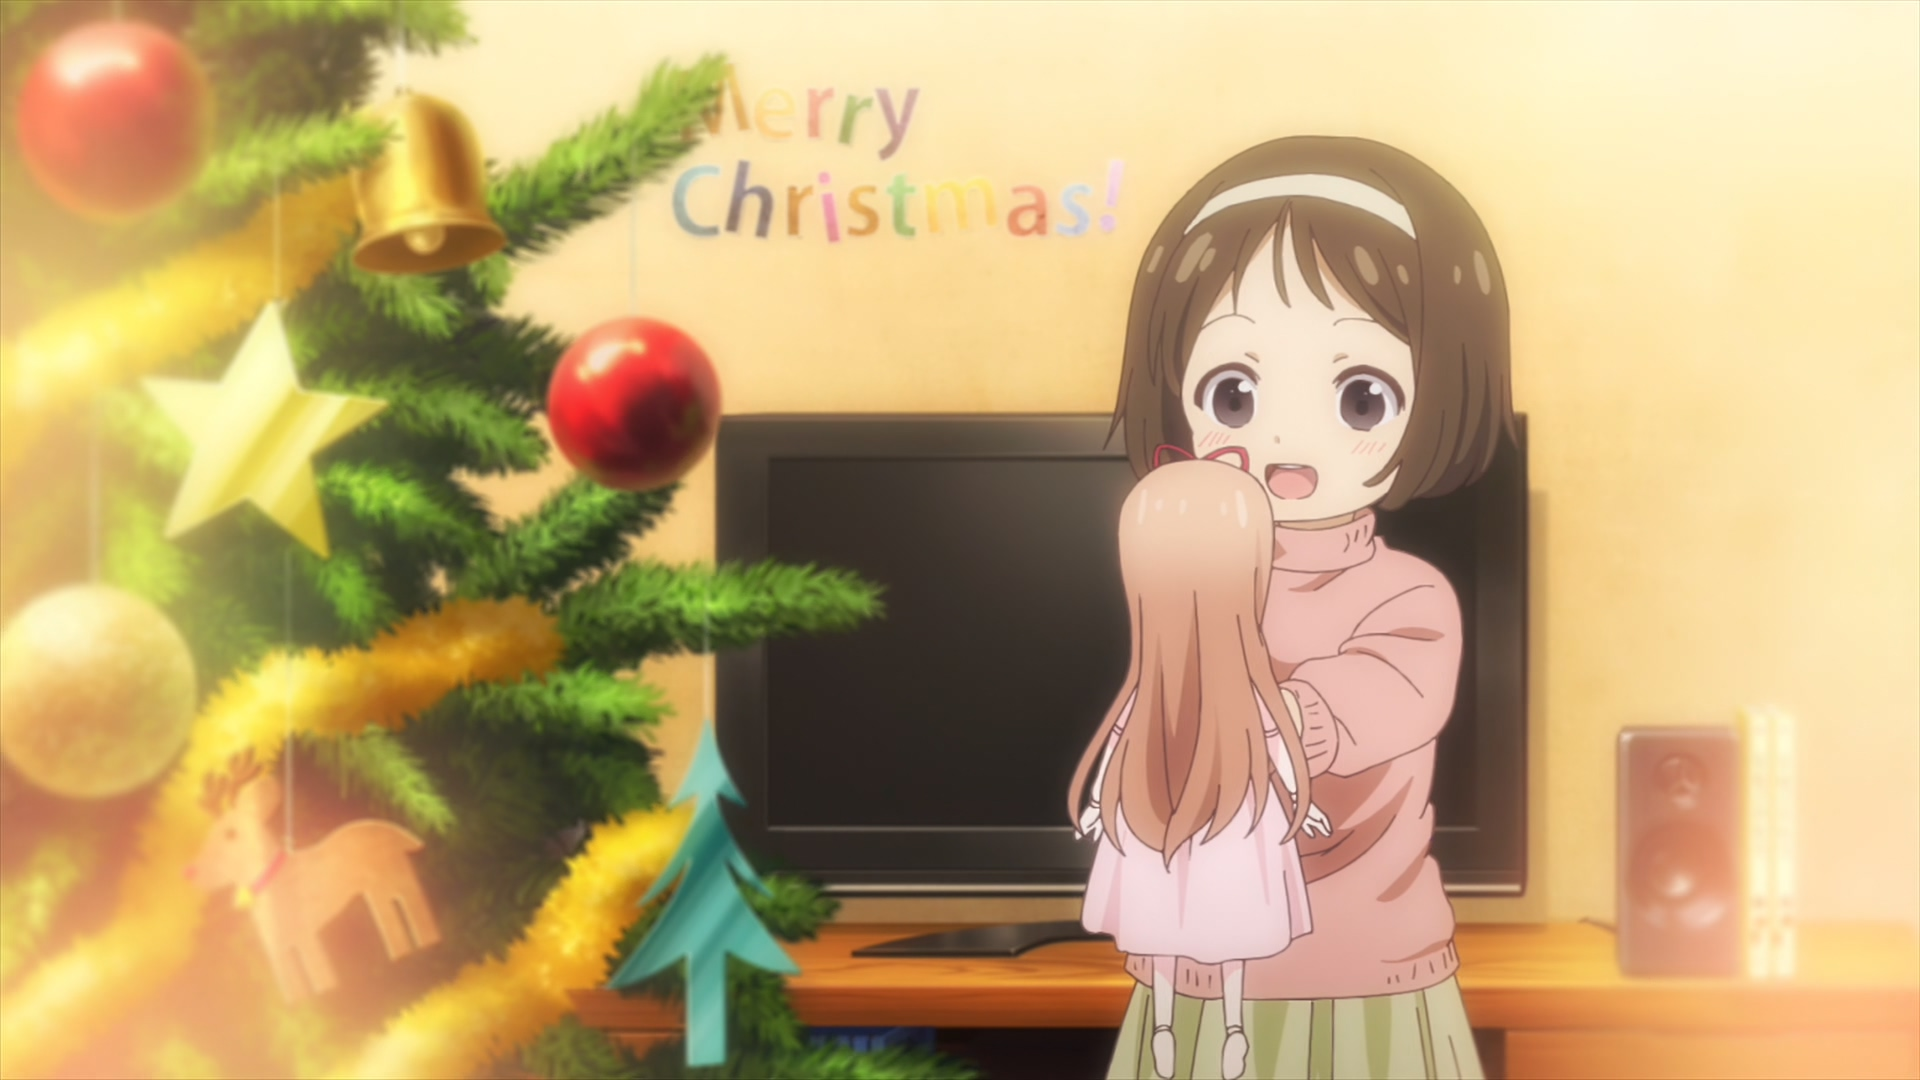其他: (1102, 135, 1523, 1080), (1068, 446, 1335, 1080)
